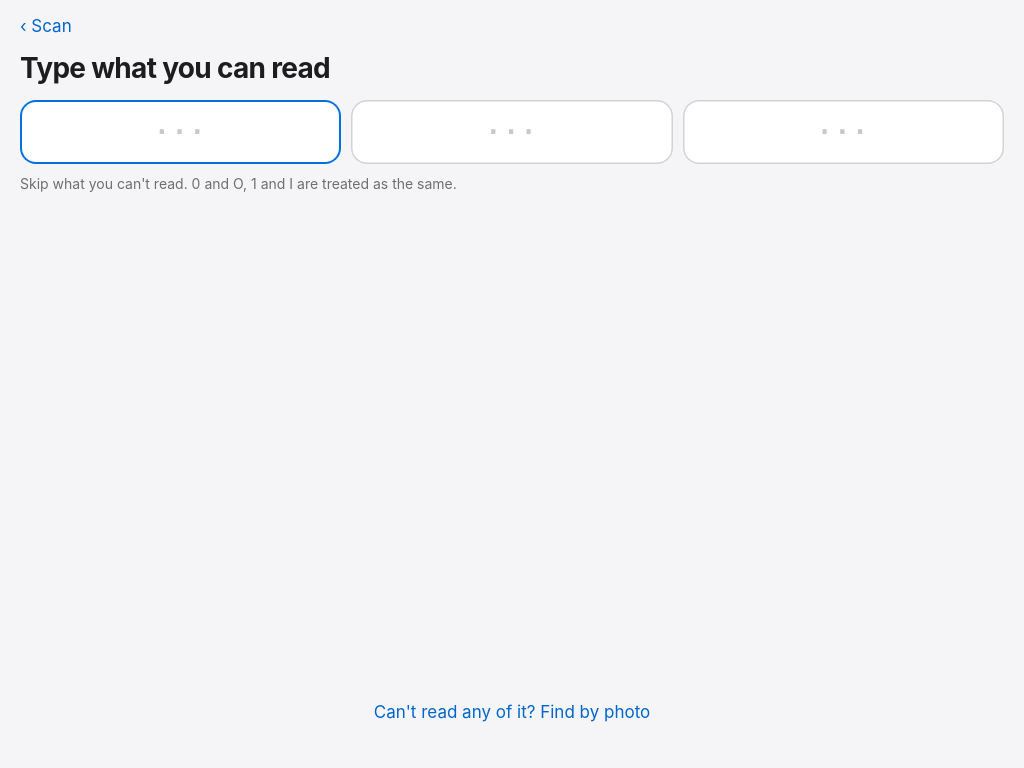
Test: F2 Type what you can read › waits for 4 known characters, then lists matches with ? for unknowns
Type "rni" into the field with test id "code-box-0" at (181, 132), box [20, 100, 341, 164]
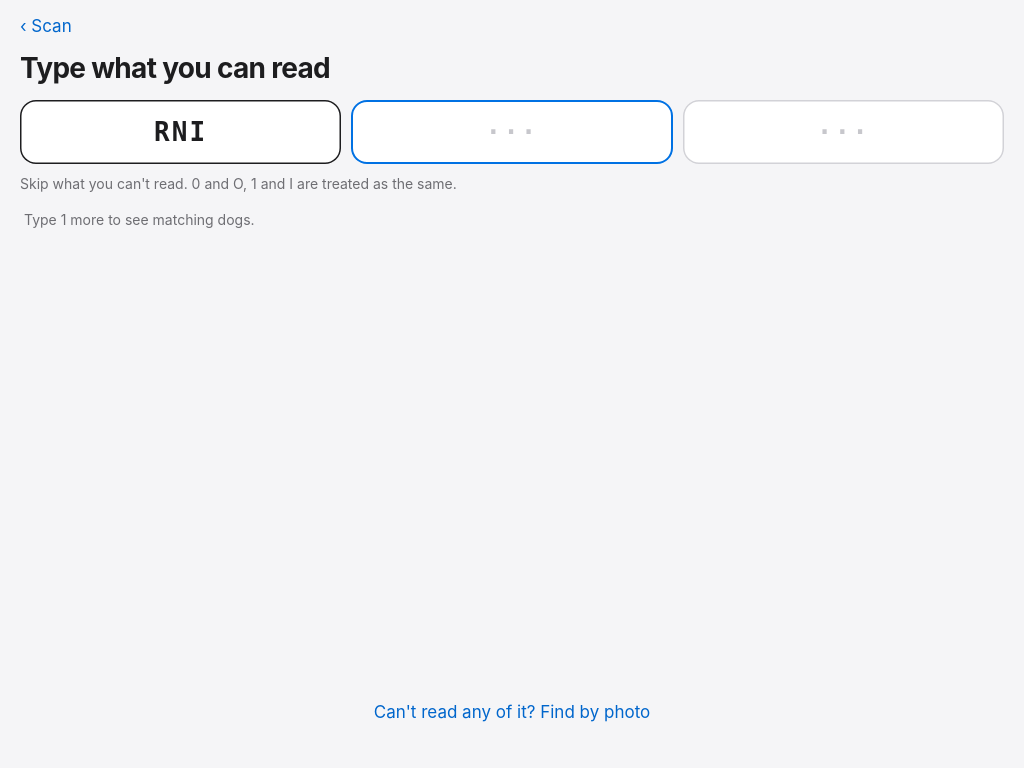
expect the text "Type 1 more to see matching dogs." is shown: met, box [24, 211, 255, 228]
Type "4" into the field with test id "code-box-1" at (512, 132), box [351, 100, 673, 164]
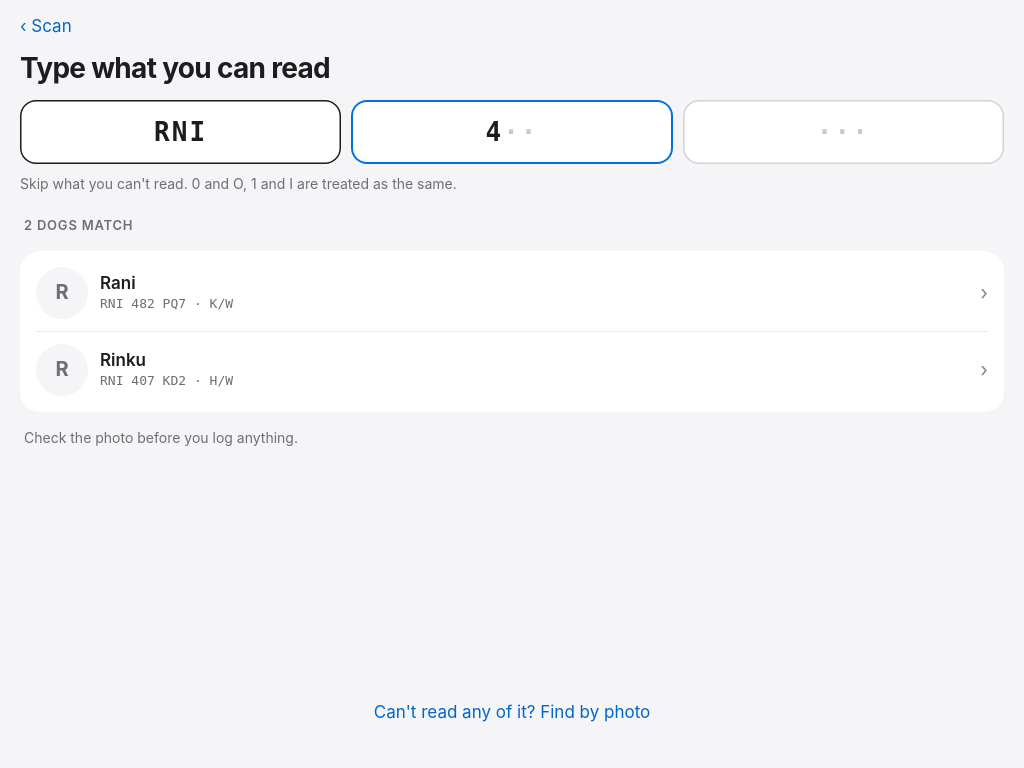
expect the text "2 dogs match" is shown: met, box [24, 217, 133, 233]
expect the text "Rani" is shown: met, box [100, 273, 136, 293]
expect the text "RNI 482 PQ7 · K/W" is shown: met, box [100, 296, 233, 311]
